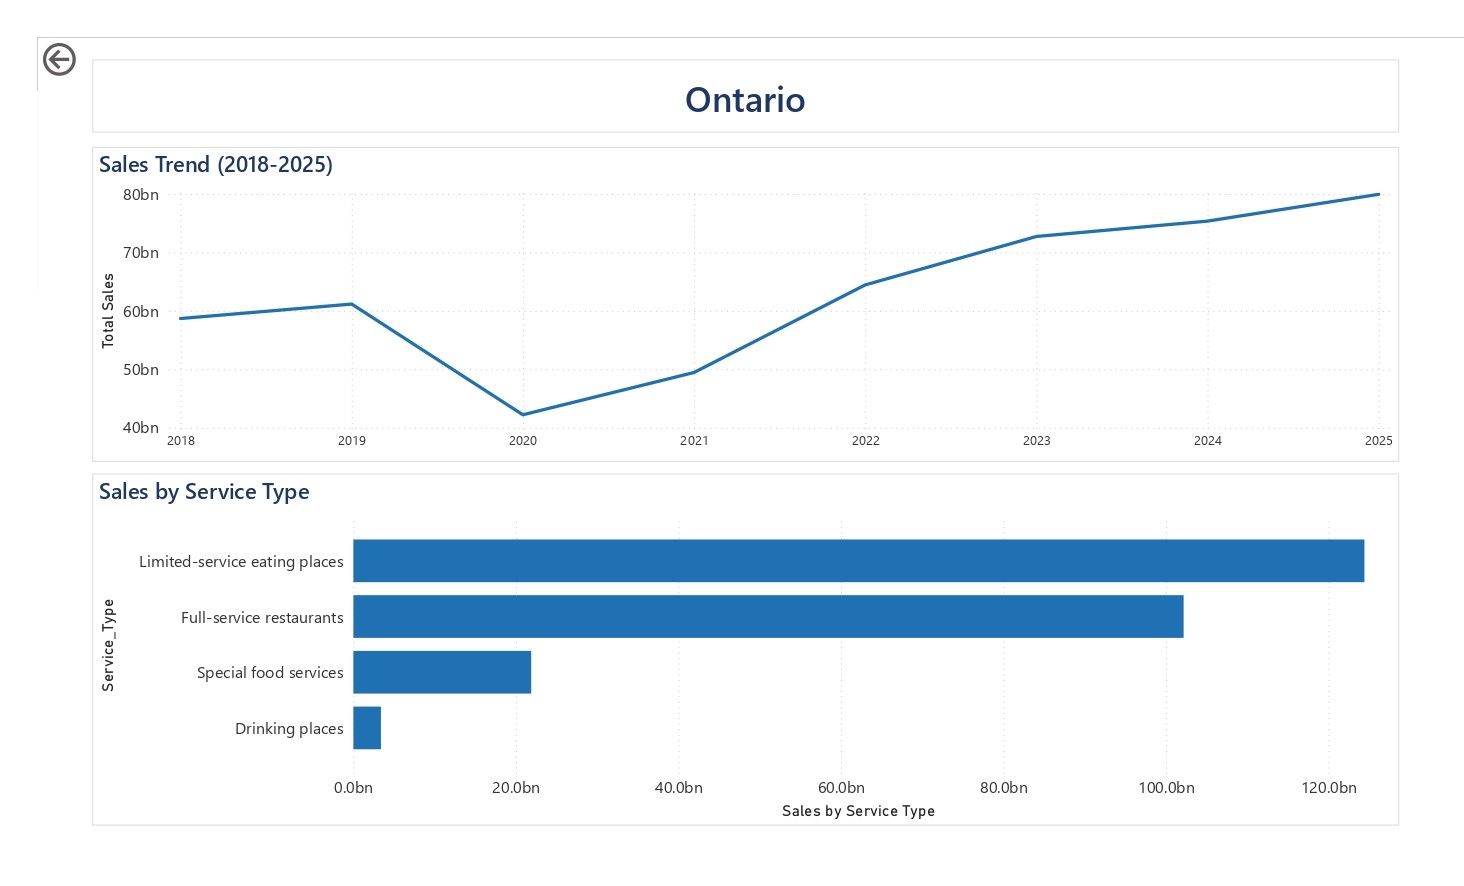

The page's visual inventory and layout, read from the dashboard file:
{"tool":"powerbi","page":{"name":"Province Detail","canvas":[1280,720],"ordinal":1},"visuals":[{"type":"actionButton","box":[0,0,100,40],"z":0},{"type":"cardVisual","fields":{"Data":["Min(FoodService_Adjusted.Province)"]},"box":[49.4,20.6,1195.2,67.2],"z":1000},{"type":"lineChart","title":"Sales Trend (2018-2025)","fields":{"Y":["Measures_Used.Total Sales"],"Category":["FoodService_Adjusted.Year"]},"box":[49.4,100.2,1195.2,288.2],"z":2000},{"type":"clusteredBarChart","title":"Sales by Service Type ","fields":{"Category":["FoodService_Adjusted.Service_Type"],"Y":["Measures_Used.Sales by Service Type"]},"box":[49.4,397.9,1195.2,322.5],"z":3000}]}

Visuals, with their boxes on the page's 1280x720 design canvas (x1, y1, x2, y2). These are canvas units, not pixel positions in the 1464x886 screenshot, which may show the page scaled, cropped or inside an application window:
actionButton: Rect(0, 0, 100, 40)
cardVisual - Min(FoodService_Adjusted.Province): Rect(49, 21, 1245, 88)
"Sales Trend (2018-2025)" lineChart: Rect(49, 100, 1245, 388)
"Sales by Service Type " clusteredBarChart: Rect(49, 398, 1245, 720)
